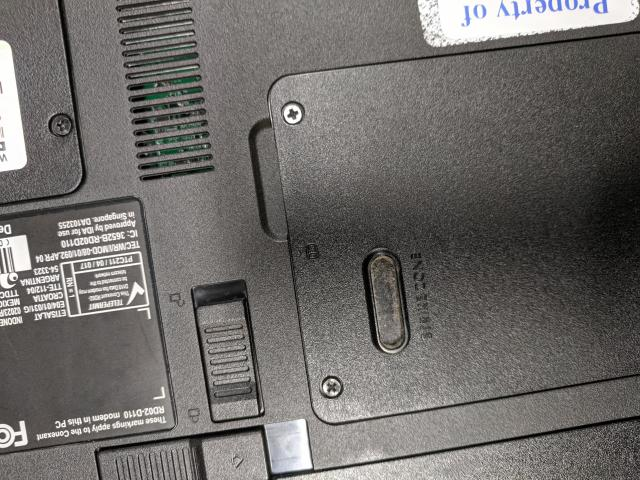CRS: (318, 374, 346, 401), (281, 102, 304, 126), (48, 113, 73, 135)
